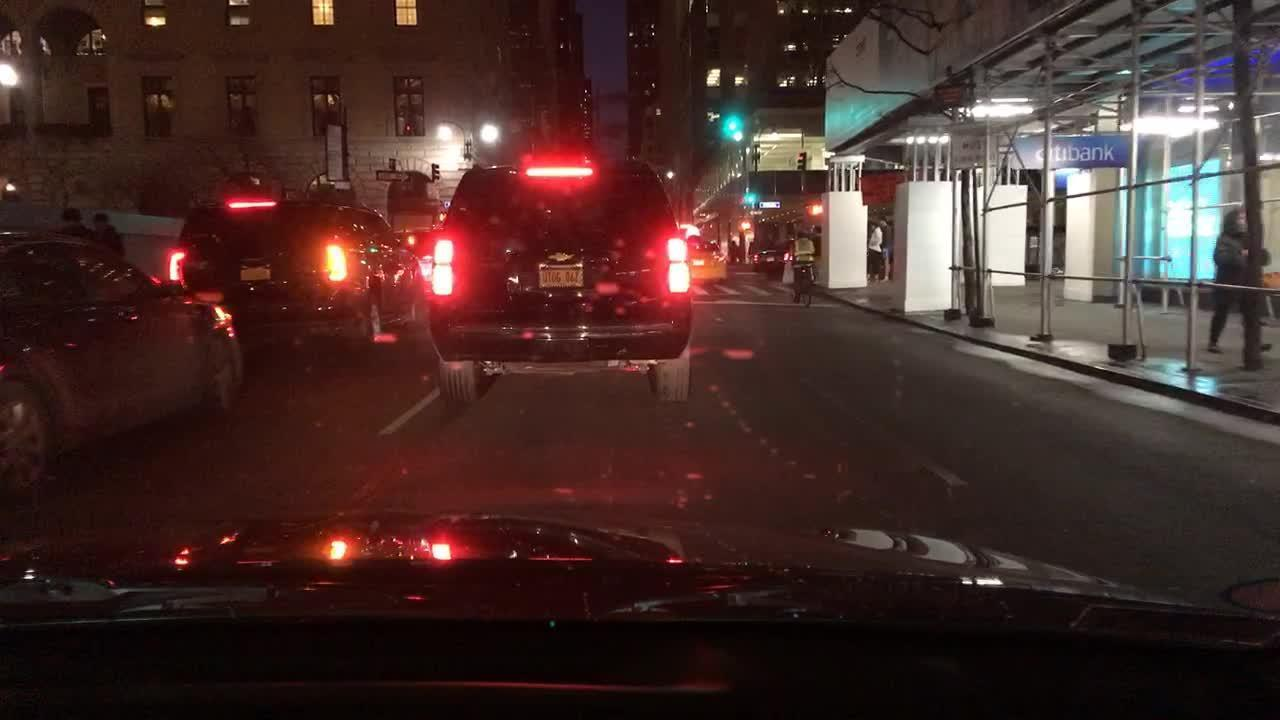chevrolet: (538, 244, 587, 267)
